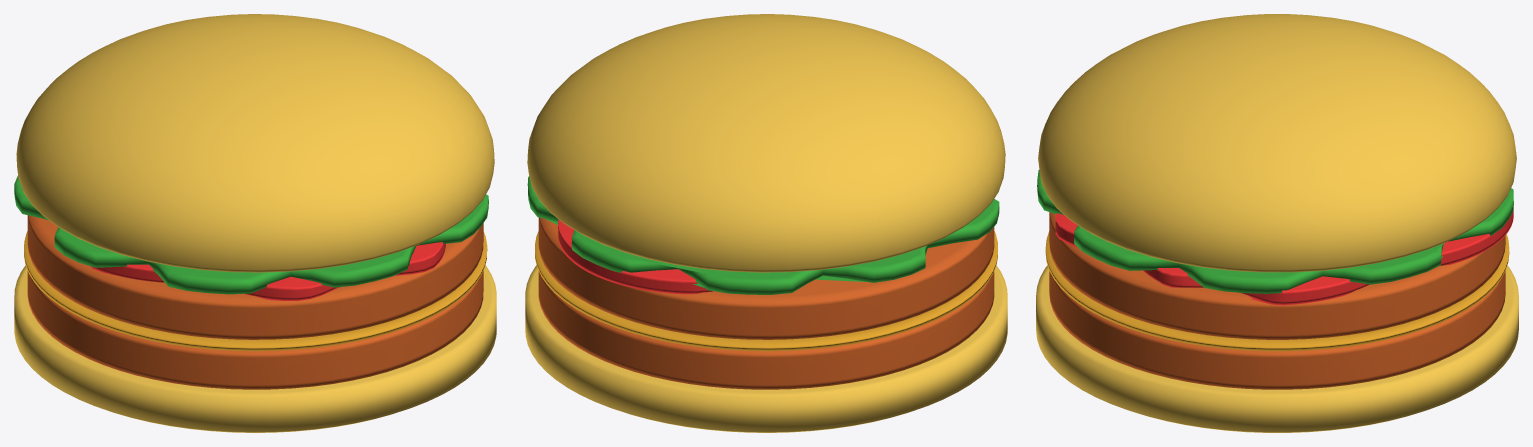
File: Burger_WithoutSeed.fbx
The picture shows the model from 3 angles, left to right: view 1: azimuth 30°, elevation 25°; view 2: azimuth 150°, elevation 25°; view 3: azimuth 270°, elevation 25°; orthographic projection.
Visible parts, largest first — view 1: Bread Up, Bread, Meat.001, Meat, Salat, Bread.001, Tomato, Tomato.001; view 2: Bread Up, Bread, Meat.001, Meat, Salat, Bread.001, Tomato.002; view 3: Bread Up, Bread, Meat.001, Meat, Salat, Bread.001, Tomato.003, Tomato.002, Tomato.
Part boxes in pixels (x1=…): Bread Up: x1=16, y1=14, x2=494, y2=272; Bread: x1=14, y1=265, x2=496, y2=432; Meat.001: x1=27, y1=215, x2=483, y2=339; Meat: x1=27, y1=271, x2=483, y2=389; Salat: x1=14, y1=176, x2=488, y2=294; Bread.001: x1=24, y1=231, x2=487, y2=351; Tomato: x1=244, y1=242, x2=445, y2=300; Tomato.001: x1=90, y1=264, x2=164, y2=282; Bread Up: x1=527, y1=14, x2=1005, y2=272; Bread: x1=525, y1=265, x2=1007, y2=432; Meat.001: x1=538, y1=217, x2=994, y2=339; Meat: x1=538, y1=271, x2=994, y2=389; Salat: x1=527, y1=176, x2=999, y2=294; Bread.001: x1=535, y1=231, x2=997, y2=351; Tomato.002: x1=558, y1=220, x2=712, y2=294; Bread Up: x1=1038, y1=14, x2=1516, y2=272; Bread: x1=1036, y1=265, x2=1518, y2=432; Meat.001: x1=1049, y1=212, x2=1505, y2=339; Meat: x1=1049, y1=271, x2=1505, y2=389; Salat: x1=1037, y1=170, x2=1513, y2=293; Bread.001: x1=1045, y1=231, x2=1509, y2=351; Tomato.003: x1=1143, y1=268, x2=1369, y2=305; Tomato.002: x1=1440, y1=211, x2=1513, y2=265; Tomato: x1=1055, y1=213, x2=1078, y2=248.
Size of the model in its own units: 211 by 135 by 212.
